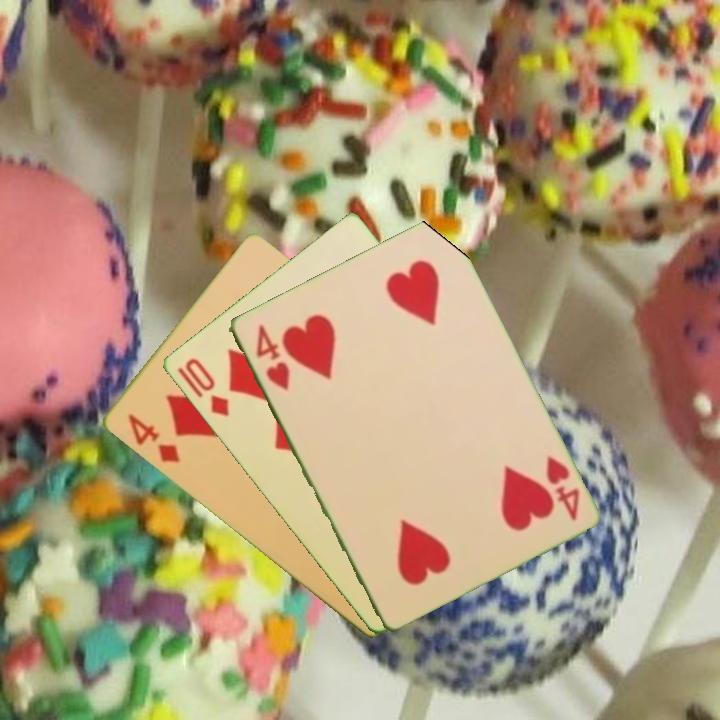10d: (173, 354, 232, 420)
4d: (123, 410, 182, 466)
4h: (251, 320, 292, 393), (541, 452, 582, 524)
